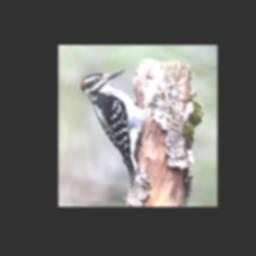Woodpecker: (81, 70, 147, 183)
